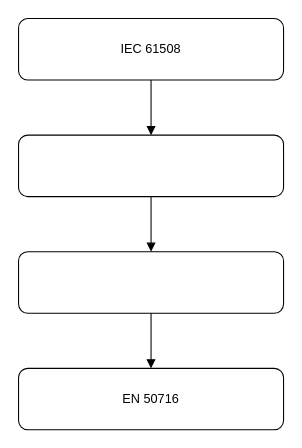
Image size: 302x448. Some labels were removed from this diagram. Each missing label, with the box of its shape:
EN 50128: (17, 134, 284, 197)
EN 50657: (17, 251, 284, 313)
